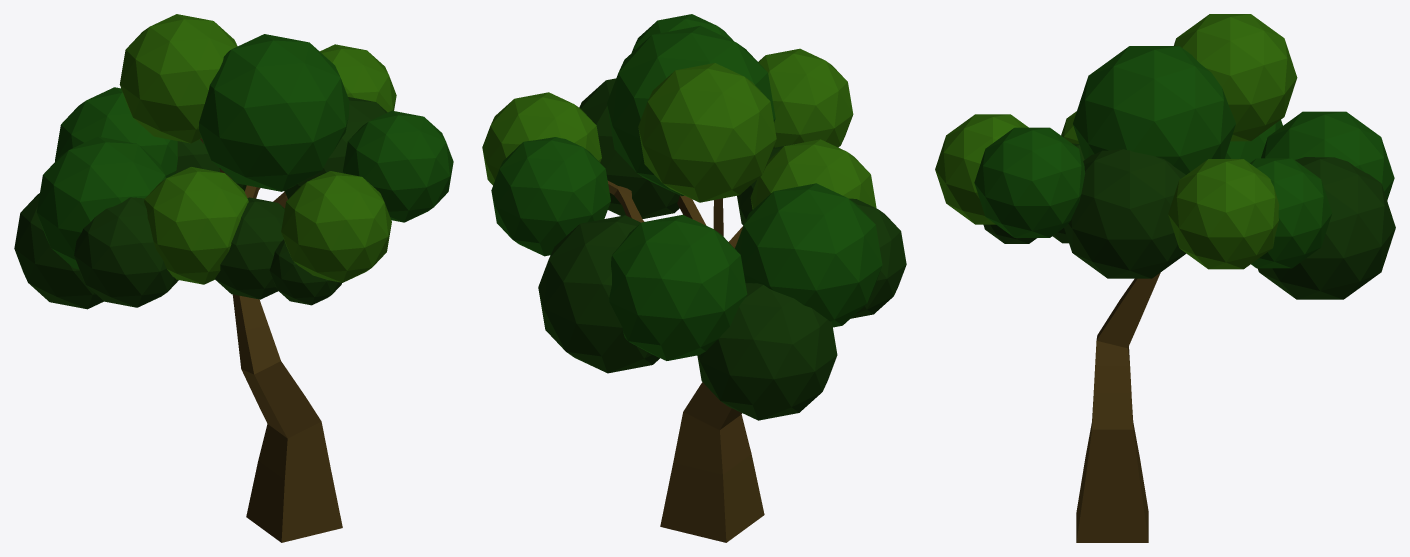
File: SimpleTree.fbx
3 renders of one model, left to right at view 1: azimuth 30°, elevation 25°; view 2: azimuth 150°, elevation 25°; view 3: azimuth 270°, elevation 25°, orthographic. The views are drawn at different scales.
Visible parts, largest first — view 1: Icosphere.013, TreeBody, Icosphere.012, Icosphere.006, Icosphere.010, Icosphere.015, Icosphere.005, Icosphere.011, Icosphere.014, Icosphere.002, Icosphere.007, Icosphere.003 (+3 smaller); view 2: Icosphere.002, Icosphere.012, Icosphere.010, Icosphere.007, TreeBody, Icosphere, Icosphere.001, Icosphere.013, Icosphere.006, Icosphere.003, Icosphere.015, Icosphere.004 (+3 smaller); view 3: Icosphere.013, TreeBody, Icosphere.004, Icosphere, Icosphere.003, Icosphere.005, Icosphere.012, Icosphere.001, Icosphere.002, Icosphere.006, Icosphere.010.
Boxes of the visible parts, x1,y1,x2,y2 form: Icosphere.013: (199, 34, 349, 191); TreeBody: (200, 138, 342, 542); Icosphere.012: (119, 14, 237, 143); Icosphere.006: (281, 171, 391, 282); Icosphere.010: (36, 136, 165, 269); Icosphere.015: (144, 167, 248, 284); Icosphere.005: (343, 110, 453, 222); Icosphere.011: (74, 197, 178, 307); Icosphere.014: (215, 197, 284, 299); Icosphere.002: (55, 87, 177, 177); Icosphere.007: (14, 193, 103, 309); Icosphere.003: (320, 44, 396, 112); Icosphere.002: (609, 214, 747, 360); Icosphere.012: (638, 63, 776, 202); Icosphere.010: (735, 183, 882, 327); Icosphere.007: (697, 283, 837, 420); TreeBody: (607, 180, 764, 542); Icosphere: (538, 215, 659, 373); Icosphere.001: (491, 137, 610, 256); Icosphere.013: (607, 25, 775, 195); Icosphere.006: (758, 48, 853, 147); Icosphere.003: (482, 92, 601, 185); Icosphere.015: (750, 139, 876, 209); Icosphere.004: (579, 78, 679, 218); Icosphere.013: (1073, 46, 1235, 174); TreeBody: (1076, 272, 1160, 542); Icosphere.004: (1064, 149, 1186, 278); Icosphere: (1257, 157, 1395, 299); Icosphere.003: (1168, 159, 1279, 269); Icosphere.005: (974, 127, 1085, 237); Icosphere.012: (1174, 14, 1297, 141); Icosphere.001: (1250, 158, 1332, 268); Icosphere.002: (1261, 111, 1394, 200); Icosphere.006: (935, 114, 1028, 224); Icosphere.010: (1225, 120, 1282, 162).
Bounding box in the file's own units: 362 × 474 × 409.
